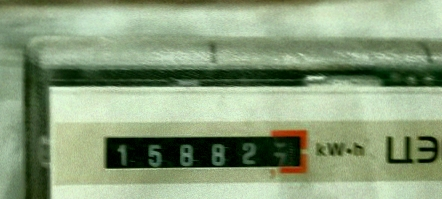1: (115, 142, 129, 167)
2: (241, 139, 257, 165)
5: (146, 142, 162, 167)
7: (272, 149, 286, 165)
8: (177, 142, 194, 166), (209, 140, 225, 165)
screen: (91, 121, 317, 182)
